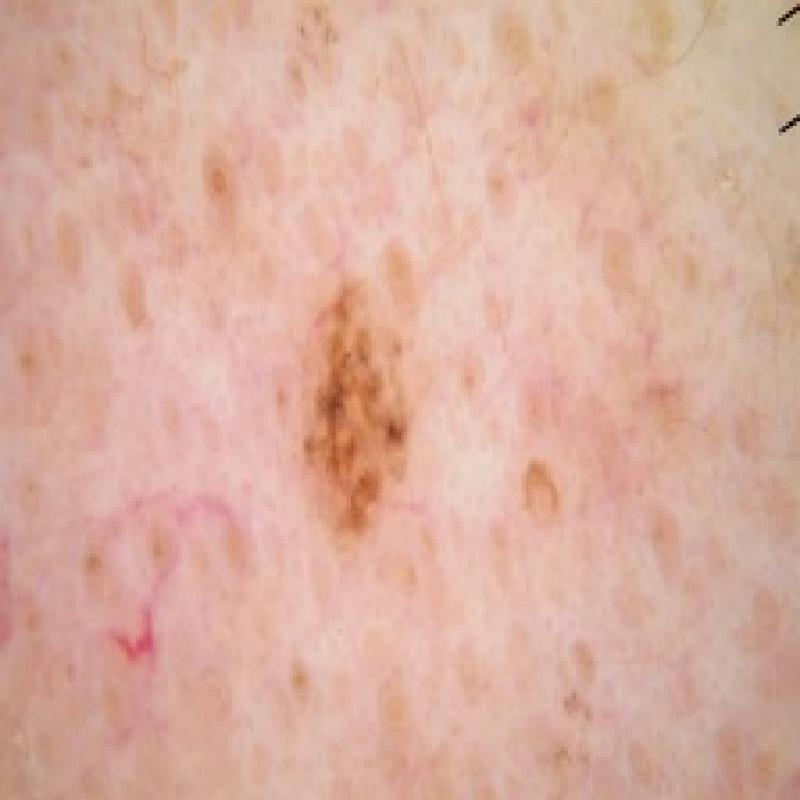malignant: (241, 271, 454, 570)
